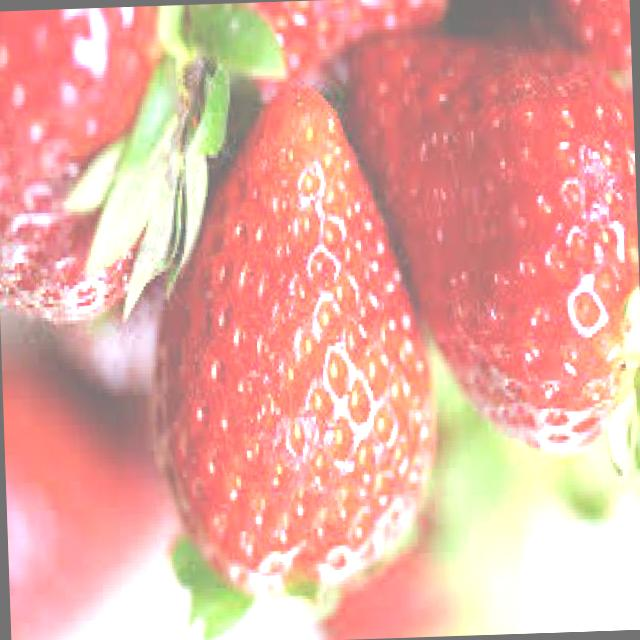Strawberry: (144, 74, 436, 595), (348, 31, 634, 461), (0, 7, 194, 321), (250, 0, 452, 102), (530, 0, 632, 94)
